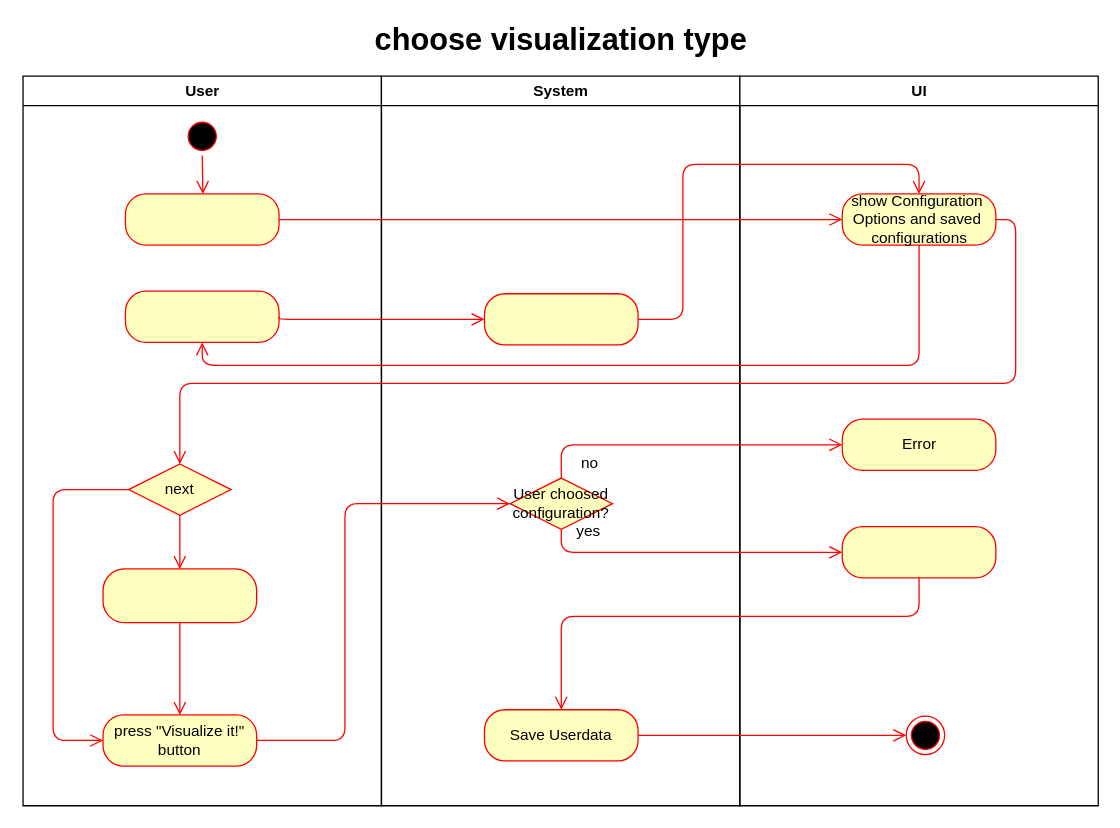
Some shapes in this 1120 by 828 pixel diagram are drawn without their labels. Each missing label, with the centre of its shape:
Add the choosed configuration to selected dataset: point 560,318
Show UI: point 918,551
The user presses "+" and chooses a configuration: point 201,316
User choose his wanted configuration: point 179,595
User clicks on "choose visualization": point 201,219
